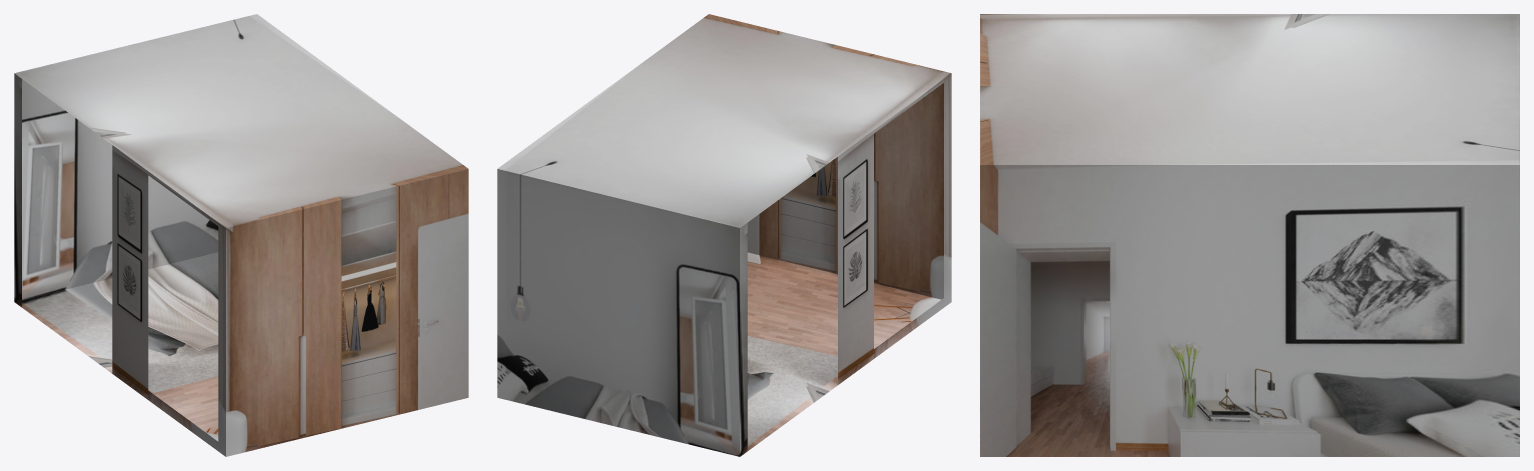
File: room.obj
The picture shows the model from 3 angles, left to right: view 1: azimuth 30°, elevation 25°; view 2: azimuth 150°, elevation 25°; view 3: azimuth 270°, elevation 25°; orthographic projection. The views are drawn at different scales.
Parts seen in each view (by area): view 1: wall_03, ceiling, wall_01, floor, wall_00; view 2: wall_01, ceiling, wall_03, floor, wall_00; view 3: wall_02, ceiling.
Part boxes in pixels (x1,y1,x2,y2): wall_03: (226,169,468,456); ceiling: (14,14,468,227); wall_01: (22,79,218,299); floor: (22,252,218,441); wall_00: (14,73,225,456); wall_01: (497,169,739,456); ceiling: (497,14,951,227); wall_03: (747,83,943,299); floor: (747,252,941,450); wall_00: (740,73,951,456); wall_02: (980,165,1519,456); ceiling: (980,14,1519,164).
Size of the model in its own units: 3.27 by 2.95 by 4.94.
Materials: 6 (6 with a texture image).
